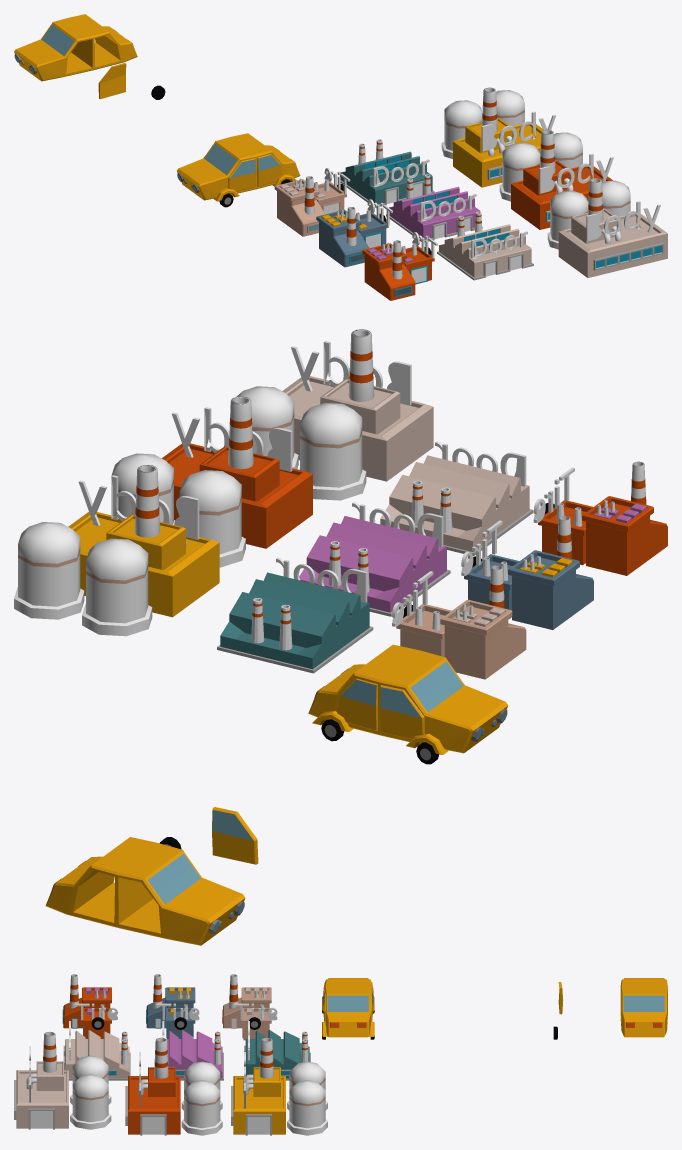
The model's file is Car.fbx.
3 views of the same model, one above another, from view 1: azimuth 30°, elevation 25°; view 2: azimuth 150°, elevation 25°; view 3: azimuth 270°, elevation 25° (orthographic). The views are drawn at different scales.
Visible parts, largest first — view 1: Body_3, Body_1, Body_2, whole_car, single_car_body, Door_3, Door_2, Door_1, Tire_3, Tire_2, Tire_1, single_door; view 2: Body_1, Body_3, Body_2, whole_car, single_car_body, Door_1, Door_3, Door_2, Tire_1, Tire_3, Tire_2, single_door; view 3: Body_2, Body_1, Body_3, whole_car, single_car_body, Tire_1, Door_3, Tire_2, Tire_3, Door_2, Door_1.
Part boxes in pixels (<box>): Body_3: <box>547,178,667,277</box>; Body_1: <box>441,87,556,187</box>; Body_2: <box>499,130,613,229</box>; whole_car: <box>177,133,300,207</box>; single_car_body: <box>14,14,137,81</box>; Door_3: <box>437,211,533,280</box>; Door_2: <box>386,174,482,242</box>; Door_1: <box>340,139,434,207</box>; Tire_3: <box>362,232,437,300</box>; Tire_2: <box>316,199,392,267</box>; Tire_1: <box>274,168,350,236</box>; single_door: <box>98,63,126,99</box>; Body_1: <box>14,465,219,636</box>; Body_3: <box>236,329,433,500</box>; Body_2: <box>111,396,312,567</box>; whole_car: <box>308,644,508,764</box>; single_car_body: <box>45,837,245,945</box>; Door_1: <box>217,557,373,673</box>; Door_3: <box>380,441,533,556</box>; Door_2: <box>299,502,450,616</box>; Tire_1: <box>392,565,526,679</box>; Tire_3: <box>533,461,667,575</box>; Tire_2: <box>461,515,593,629</box>; single_door: <box>212,807,258,864</box>; Body_2: <box>125,1037,222,1135</box>; Body_1: <box>231,1037,327,1135</box>; Body_3: <box>14,1031,111,1129</box>; whole_car: <box>322,978,374,1039</box>; single_car_body: <box>620,978,667,1037</box>; Tire_1: <box>222,974,277,1040</box>; Door_3: <box>63,1021,130,1080</box>; Tire_2: <box>146,974,199,1038</box>; Tire_3: <box>62,974,117,1038</box>; Door_2: <box>162,1021,223,1080</box>; Door_1: <box>244,1021,310,1080</box>.
Size of the model in its own units: 12.5 by 3.13 by 24.59.
